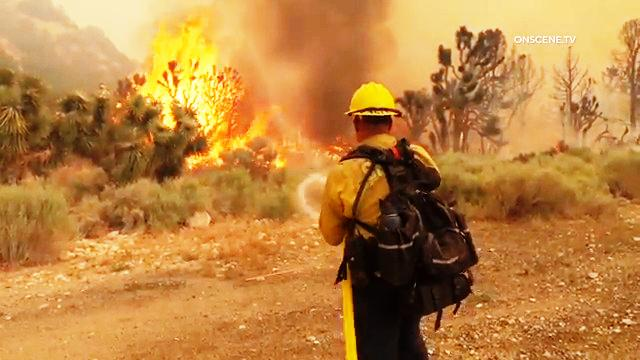fire: (130, 10, 259, 180)
smoke: (257, 0, 387, 74)
